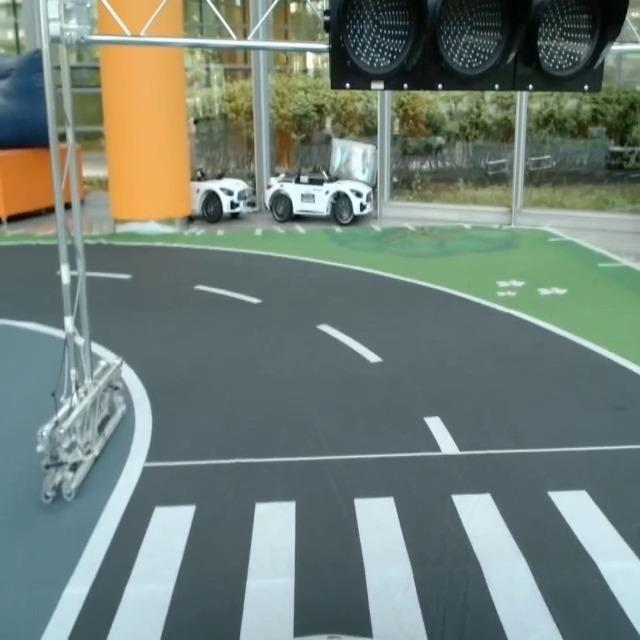traffic-light: (328, 0, 634, 89)
